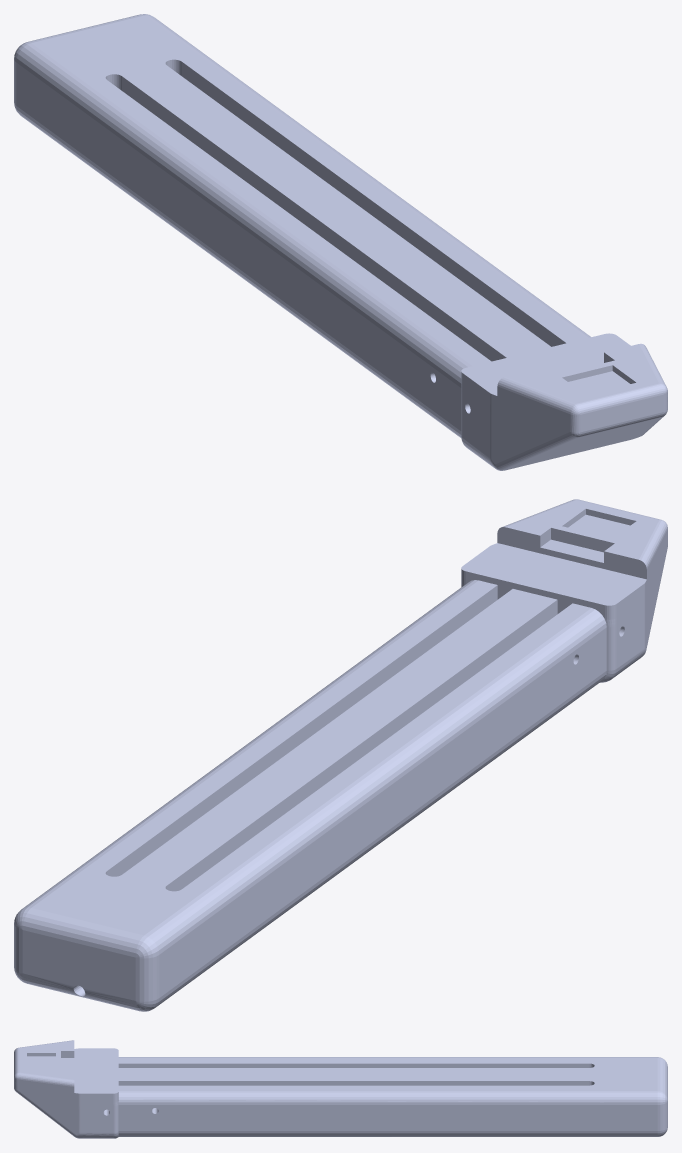
The model's file is outer_insertion.obj.
3 renders of one model, top to bottom at view 1: azimuth 30°, elevation 25°; view 2: azimuth 150°, elevation 25°; view 3: azimuth 270°, elevation 25°, orthographic. The views are drawn at different scales.
Bounding box in the file's own units: 0.082 × 0.05 × 0.5.
